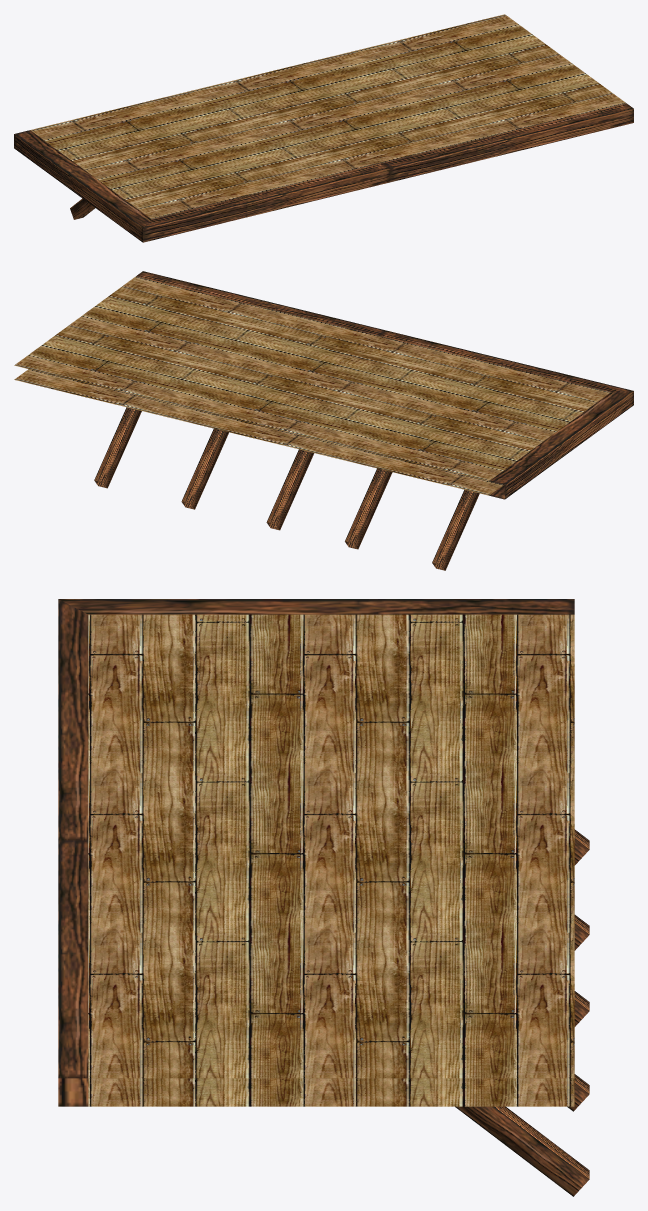
File: LAKETOWN_WAREHOUSE3_PS_WH3_PLATFORM38387__GX.fbx
3 renders of one model, top to bottom at view 1: azimuth 30°, elevation 25°; view 2: azimuth 150°, elevation 25°; view 3: azimuth 270°, elevation 25°, orthographic. The views are drawn at different scales.
Parts seen in each view (by area): view 1: LAKETOWN_WAREHOUSE3_PS_WH3_PLATFORM38387__GX; view 2: LAKETOWN_WAREHOUSE3_PS_WH3_PLATFORM38387__GX; view 3: LAKETOWN_WAREHOUSE3_PS_WH3_PLATFORM38387__GX.
Boxes of the visible parts, <box> form: LAKETOWN_WAREHOUSE3_PS_WH3_PLATFORM38387__GX: <box>14,14,633,242</box>; LAKETOWN_WAREHOUSE3_PS_WH3_PLATFORM38387__GX: <box>14,271,633,570</box>; LAKETOWN_WAREHOUSE3_PS_WH3_PLATFORM38387__GX: <box>58,599,589,1196</box>.
Size of the model in its own units: 90000 by 17569 by 42156.
Materials: 3 (3 with a texture image).
